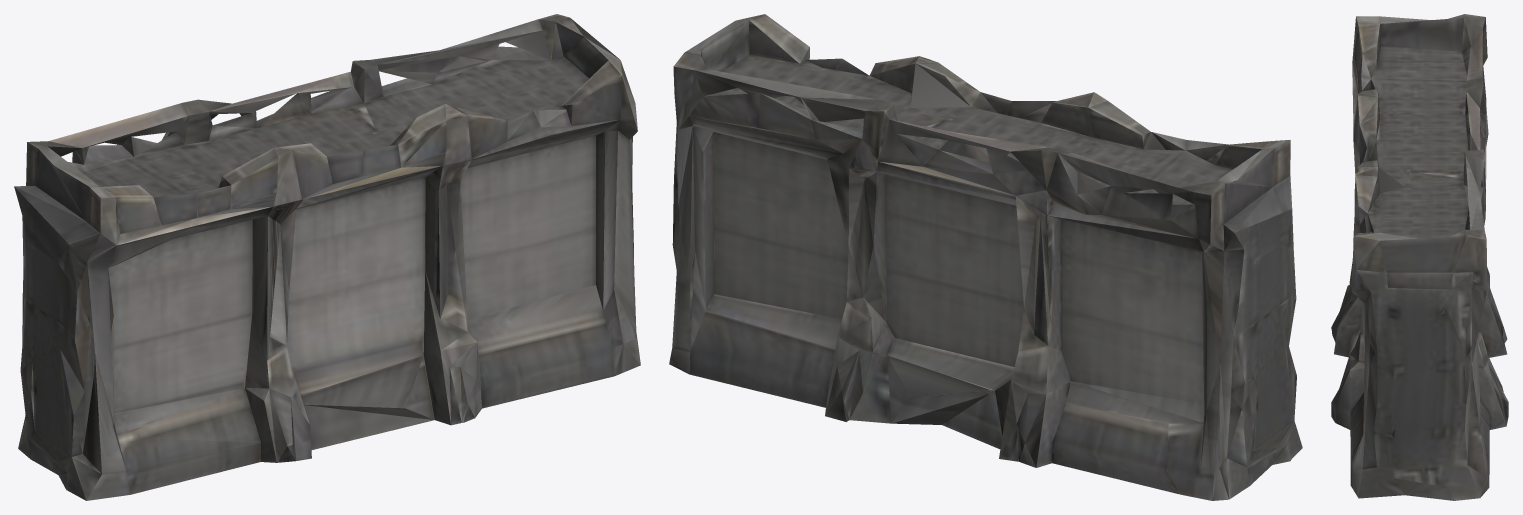
File: imperial_city_wall_straight_lod2.glb
3 renders of one model, left to right at view 1: azimuth 30°, elevation 25°; view 2: azimuth 150°, elevation 25°; view 3: azimuth 270°, elevation 25°, orthographic. The views are drawn at different scales.
Parts seen in each view (by area): view 1: mesh_node; view 2: mesh_node; view 3: mesh_node.
Boxes of the visible parts, x1=… form: mesh_node: x1=14, y1=14, x2=640, y2=500; mesh_node: x1=669, y1=14, x2=1302, y2=500; mesh_node: x1=1331, y1=14, x2=1508, y2=500.
Bounding box in the file's own units: 11.9 × 6.1 × 3.77.
1 material, 1 textured.
